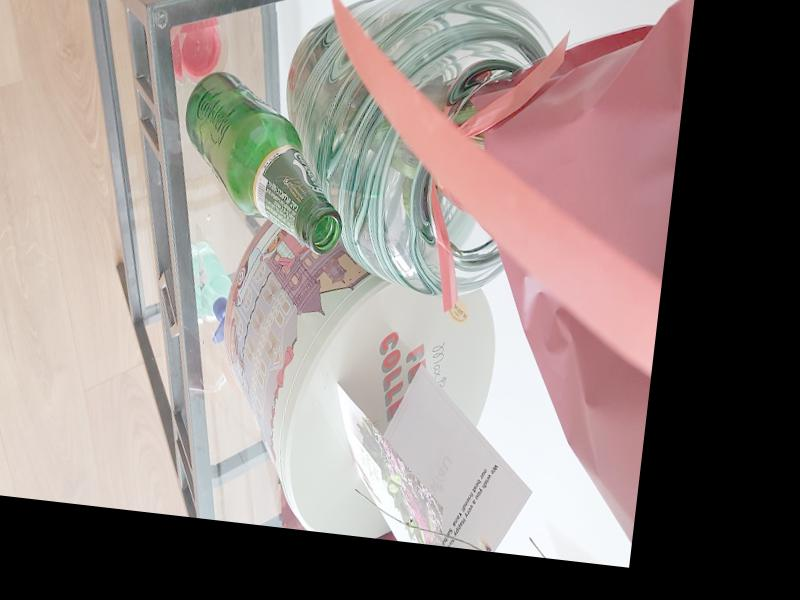Beer: (172, 66, 357, 255)
